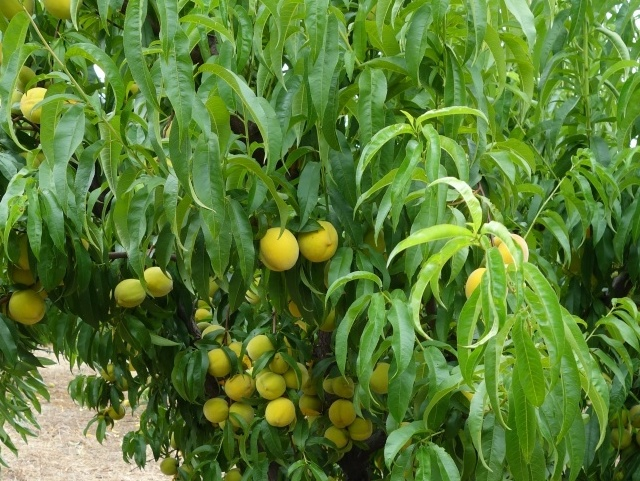peach: (254, 225, 303, 275), (485, 227, 532, 272), (298, 217, 342, 264), (5, 287, 50, 327), (465, 261, 498, 306), (19, 84, 58, 122), (108, 276, 148, 313), (139, 264, 176, 301), (223, 369, 260, 406), (361, 359, 398, 394), (263, 396, 299, 430), (201, 345, 234, 380), (252, 369, 287, 401), (4, 258, 38, 290), (326, 397, 359, 428), (37, 1, 83, 22), (201, 323, 232, 354), (243, 333, 275, 363), (201, 397, 233, 427), (605, 425, 637, 455), (319, 426, 352, 455), (224, 399, 258, 427), (282, 361, 312, 392), (346, 412, 375, 443), (297, 393, 326, 422), (224, 340, 252, 366), (329, 375, 358, 400), (157, 454, 182, 480)
